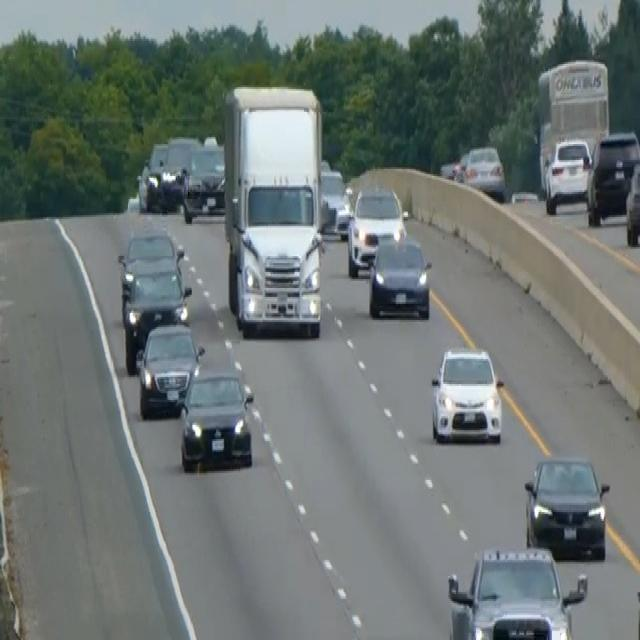car: (446, 542, 587, 638), (523, 452, 610, 560), (178, 366, 254, 473), (121, 262, 192, 374), (430, 343, 504, 445), (135, 318, 204, 418), (116, 226, 185, 322), (346, 183, 407, 277), (367, 233, 431, 320), (586, 128, 639, 226), (543, 135, 591, 213), (182, 140, 226, 222), (159, 135, 200, 210), (462, 142, 506, 201), (137, 140, 168, 212), (319, 166, 347, 230), (624, 157, 639, 246)
lorry: (222, 82, 326, 340)
